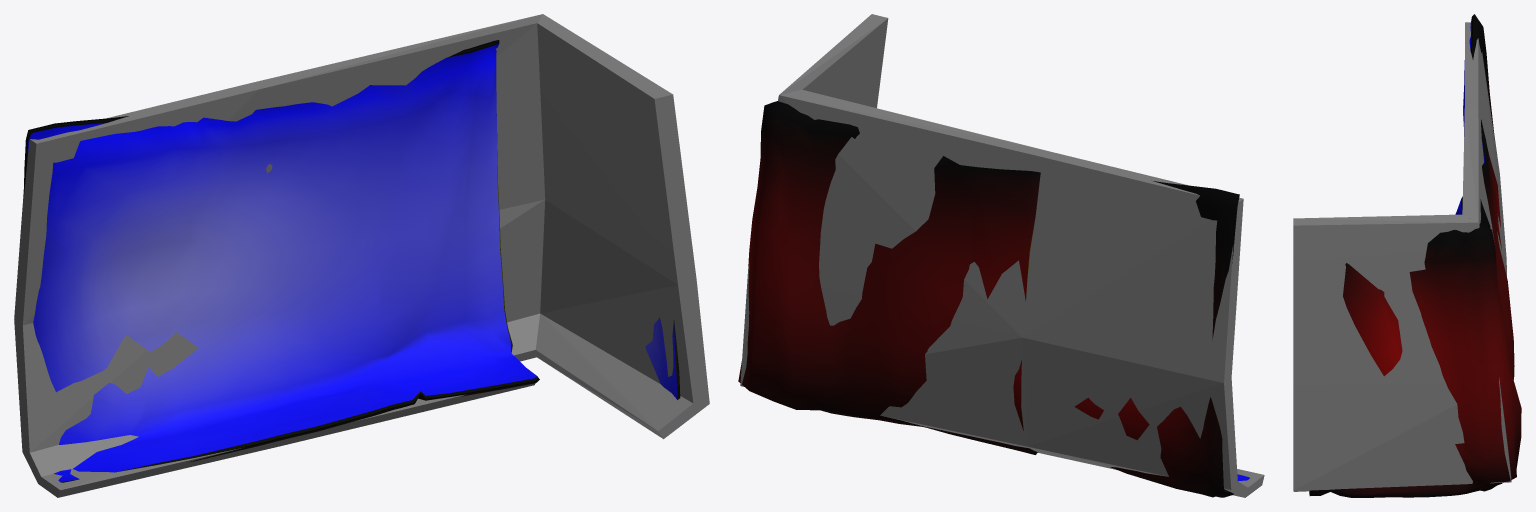
Rendered from Tent_07_Mesh.fbx.
The picture shows the model from 3 angles, left to right: view 1: azimuth 30°, elevation 25°; view 2: azimuth 150°, elevation 25°; view 3: azimuth 270°, elevation 25°; orthographic projection. The views are drawn at different scales.
Parts seen in each view (by area): view 1: Tent_07_LOD0, Tent_07_COL_08, Tent_07_COL_06, Tent_07_COL_00, Tent_07_COL_01, Tent_07_COL_03, Tent_07_COL_07, Tent_07_COL_02, Tent_07_COL_10, Tent_07_COL_04, Tent_07_COL_05, Tent_07_COL_09; view 2: Tent_07_LOD0, Tent_07_COL_01, Tent_07_COL_00, Tent_07_COL_03, Tent_07_COL_02, Tent_07_COL_08, Tent_07_COL_04; view 3: Tent_07_LOD0, Tent_07_COL_08, Tent_07_COL_06, Tent_07_COL_00, Tent_07_COL_01.
Boxes of the visible parts, x1,y1,x2,y2 form: Tent_07_LOD0: (23,40,680,482); Tent_07_COL_08: (537,14,696,284); Tent_07_COL_06: (540,200,709,403); Tent_07_COL_00: (251,14,545,209); Tent_07_COL_01: (14,83,259,325); Tent_07_COL_03: (14,319,198,452); Tent_07_COL_07: (535,313,709,439); Tent_07_COL_02: (499,199,545,322); Tent_07_COL_10: (38,440,281,497); Tent_07_COL_04: (22,435,138,483); Tent_07_COL_05: (280,383,535,446); Tent_07_COL_09: (507,313,539,361); Tent_07_LOD0: (738,101,1249,497); Tent_07_COL_01: (1022,150,1243,382); Tent_07_COL_00: (748,89,1045,337); Tent_07_COL_03: (1022,338,1237,489); Tent_07_COL_02: (740,269,1027,446); Tent_07_COL_08: (779,14,888,108); Tent_07_COL_04: (1028,447,1247,497); Tent_07_LOD0: (1309,14,1521,497); Tent_07_COL_08: (1293,214,1499,385); Tent_07_COL_06: (1293,382,1511,490); Tent_07_COL_00: (1462,108,1506,272); Tent_07_COL_01: (1465,22,1506,257).
Bounding box in the file's own units: 400 × 177 × 238.
